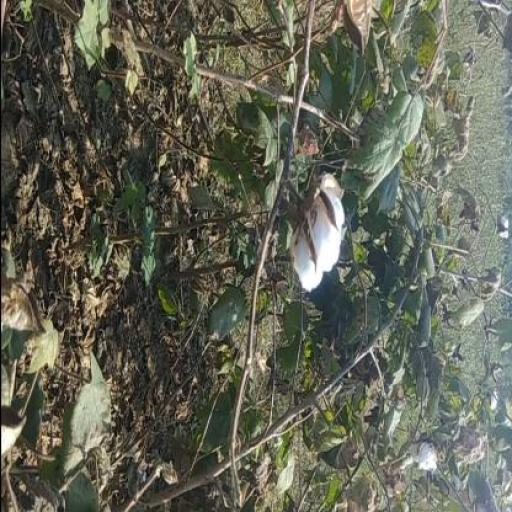cotton_ready: (282, 138, 353, 303)
